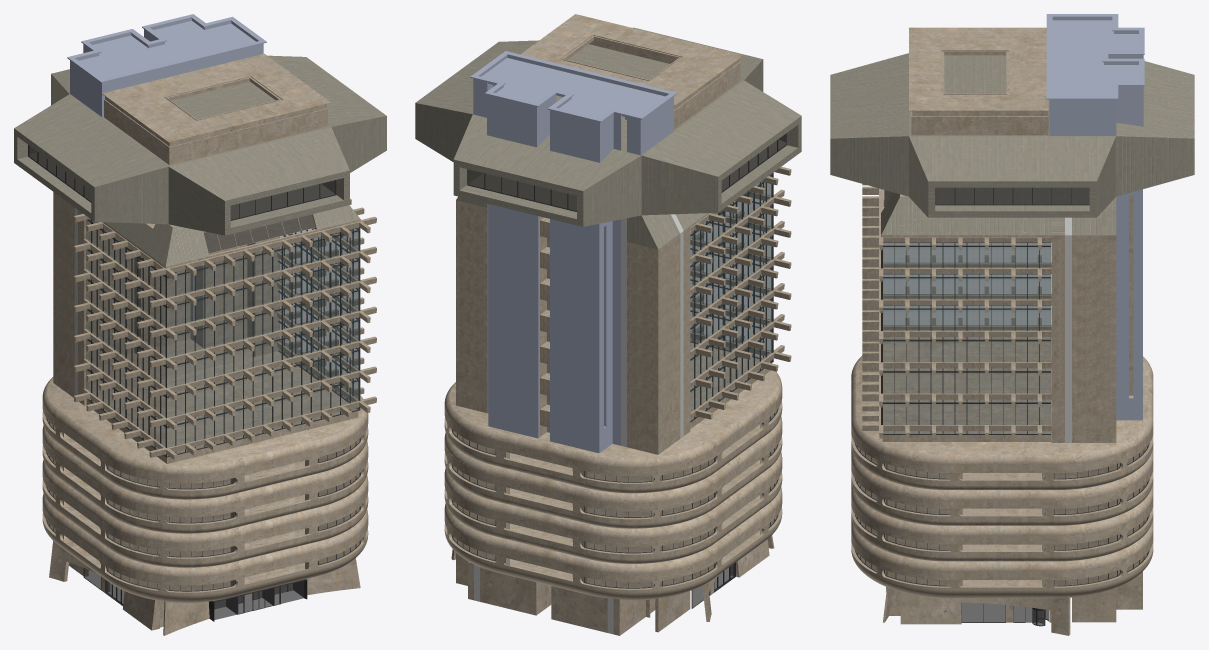
File: gm_building.glb
The picture shows the model from 3 angles, left to right: view 1: azimuth 30°, elevation 25°; view 2: azimuth 150°, elevation 25°; view 3: azimuth 270°, elevation 25°; orthographic projection. The views are drawn at different scales.
Visible parts, largest first — view 1: GM_SS_13F, GM_SS_Window, GM_SS_14F.002, GM_SS_5F.005, Cube, GM_SS_structure_S_01, GM_SS_14F, GM_SS_structure_F_01, GM_SS_structure_S_02, GM_SS_windowFrame01, GM_SS_windowFrame02, GM_SS_11F.002 (+37 smaller); view 2: GM_SS_13F, GM_SS_6F, GM_SS_14F.002, GM_SS_Window, GM_SS_14F.003, GM_SS_14F, GM_SS_5F.005, GM_SS_1F_001, GM_SS_7F.001, GM_SS_7F.003, GM_SS_7F.004, GM_SS_7F.002 (+36 smaller); view 3: GM_SS_13F, GM_SS_Window, Cube, GM_SS_14F.002, GM_SS_structure_F_01, GM_SS_5F.005, GM_SS_14F, GM_SS_11F.002, GM_SS_windowFrame02, GM_SS_6F, GM_SS_14F.003, GM_SS_2F.001 (+35 smaller).
Part boxes in pixels (<box>): GM_SS_13F: <box>14,55,386,235</box>; GM_SS_Window: <box>86,219,359,456</box>; GM_SS_14F.002: <box>102,53,331,165</box>; GM_SS_5F.005: <box>42,337,368,474</box>; Cube: <box>86,351,358,463</box>; GM_SS_structure_S_01: <box>149,216,376,457</box>; GM_SS_14F: <box>67,14,266,82</box>; GM_SS_structure_F_01: <box>83,220,370,460</box>; GM_SS_structure_S_02: <box>73,198,364,448</box>; GM_SS_windowFrame01: <box>166,227,360,457</box>; GM_SS_windowFrame02: <box>87,219,359,456</box>; GM_SS_11F.002: <box>102,205,360,268</box>; GM_SS_13F: <box>415,27,801,226</box>; GM_SS_6F: <box>456,362,690,454</box>; GM_SS_14F.002: <box>520,14,743,129</box>; GM_SS_Window: <box>690,174,772,421</box>; GM_SS_14F.003: <box>473,78,673,162</box>; GM_SS_14F: <box>470,51,677,122</box>; GM_SS_5F.005: <box>444,338,782,467</box>; GM_SS_1F_001: <box>456,535,774,635</box>; GM_SS_7F.001: <box>456,299,690,379</box>; GM_SS_7F.003: <box>456,236,690,316</box>; GM_SS_7F.004: <box>456,204,690,285</box>; GM_SS_7F.002: <box>456,267,690,348</box>; GM_SS_13F: <box>830,53,1194,217</box>; GM_SS_Window: <box>883,190,1050,433</box>; Cube: <box>882,337,1050,441</box>; GM_SS_14F.002: <box>909,27,1048,135</box>; GM_SS_structure_F_01: <box>862,200,1051,430</box>; GM_SS_5F.005: <box>851,337,1153,463</box>; GM_SS_14F: <box>1046,14,1144,99</box>; GM_SS_11F.002: <box>881,189,1142,239</box>; GM_SS_windowFrame02: <box>882,242,1050,434</box>; GM_SS_6F: <box>1051,376,1142,442</box>; GM_SS_14F.003: <box>1049,55,1143,135</box>; GM_SS_2F.001: <box>851,545,1153,598</box>.
Size of the model in its own units: 50.3 by 81.02 by 51.8.
Materials: 7 (3 with a texture image).
